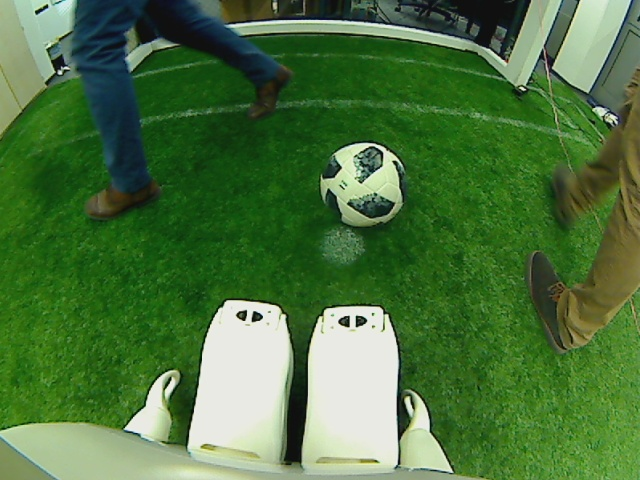ball: (322, 138, 405, 229)
